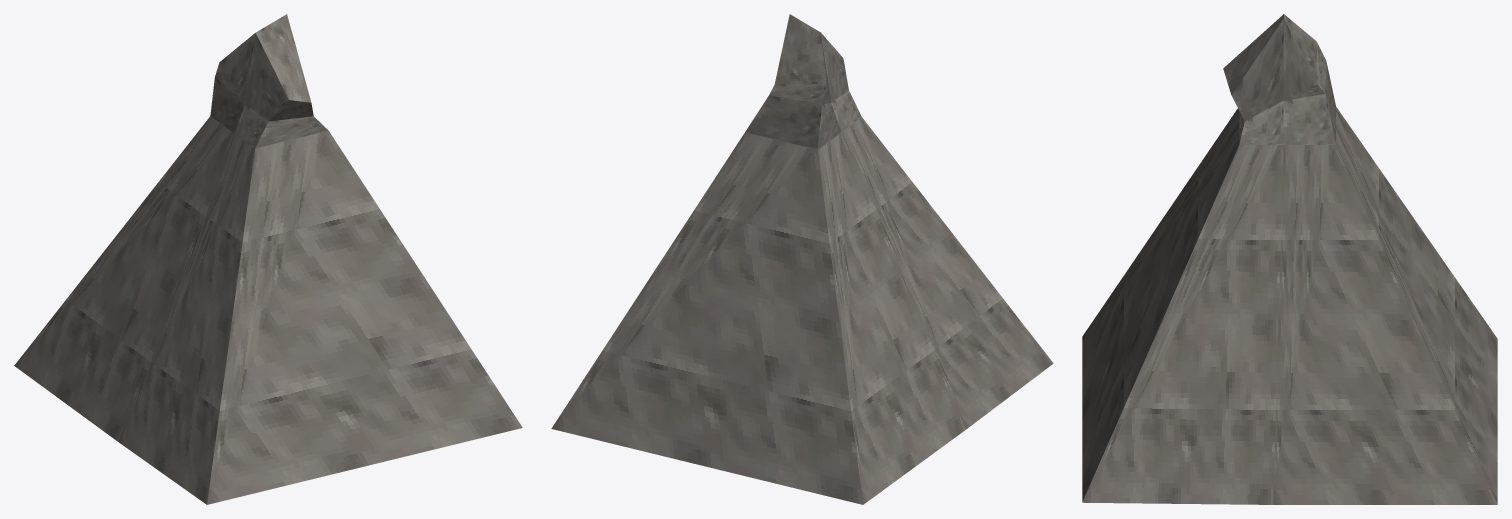
File: Mountain_0.fbx
The picture shows the model from 3 angles, left to right: view 1: azimuth 30°, elevation 25°; view 2: azimuth 150°, elevation 25°; view 3: azimuth 270°, elevation 25°; orthographic projection. The views are drawn at different scales.
Parts seen in each view (by area): view 1: Mountain_0; view 2: Mountain_0; view 3: Mountain_0.
Part boxes in pixels (left/top/right/bottom): Mountain_0: left=14, top=14, right=522, bottom=504; Mountain_0: left=551, top=14, right=1053, bottom=504; Mountain_0: left=1082, top=14, right=1497, bottom=504.
Bounding box in the file's own units: 12040 × 13919 × 12739.
Materials: 1 (1 with a texture image).
